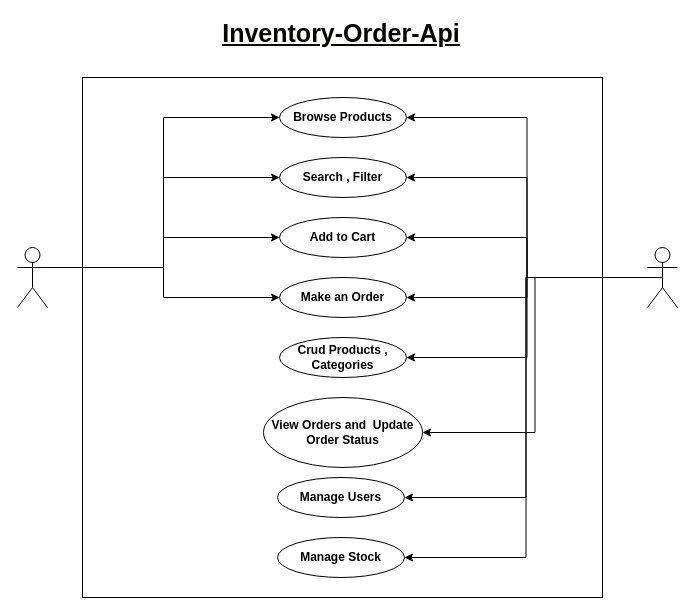
Image size: 698x615. Some labels were removed from this diagram. The shapes that lost their labels are listed below. From the top down, each one's box as (x1, y1, x2, y2) in pixels, then its label:
(16, 246, 48, 308): User
(646, 246, 678, 308): Admin
